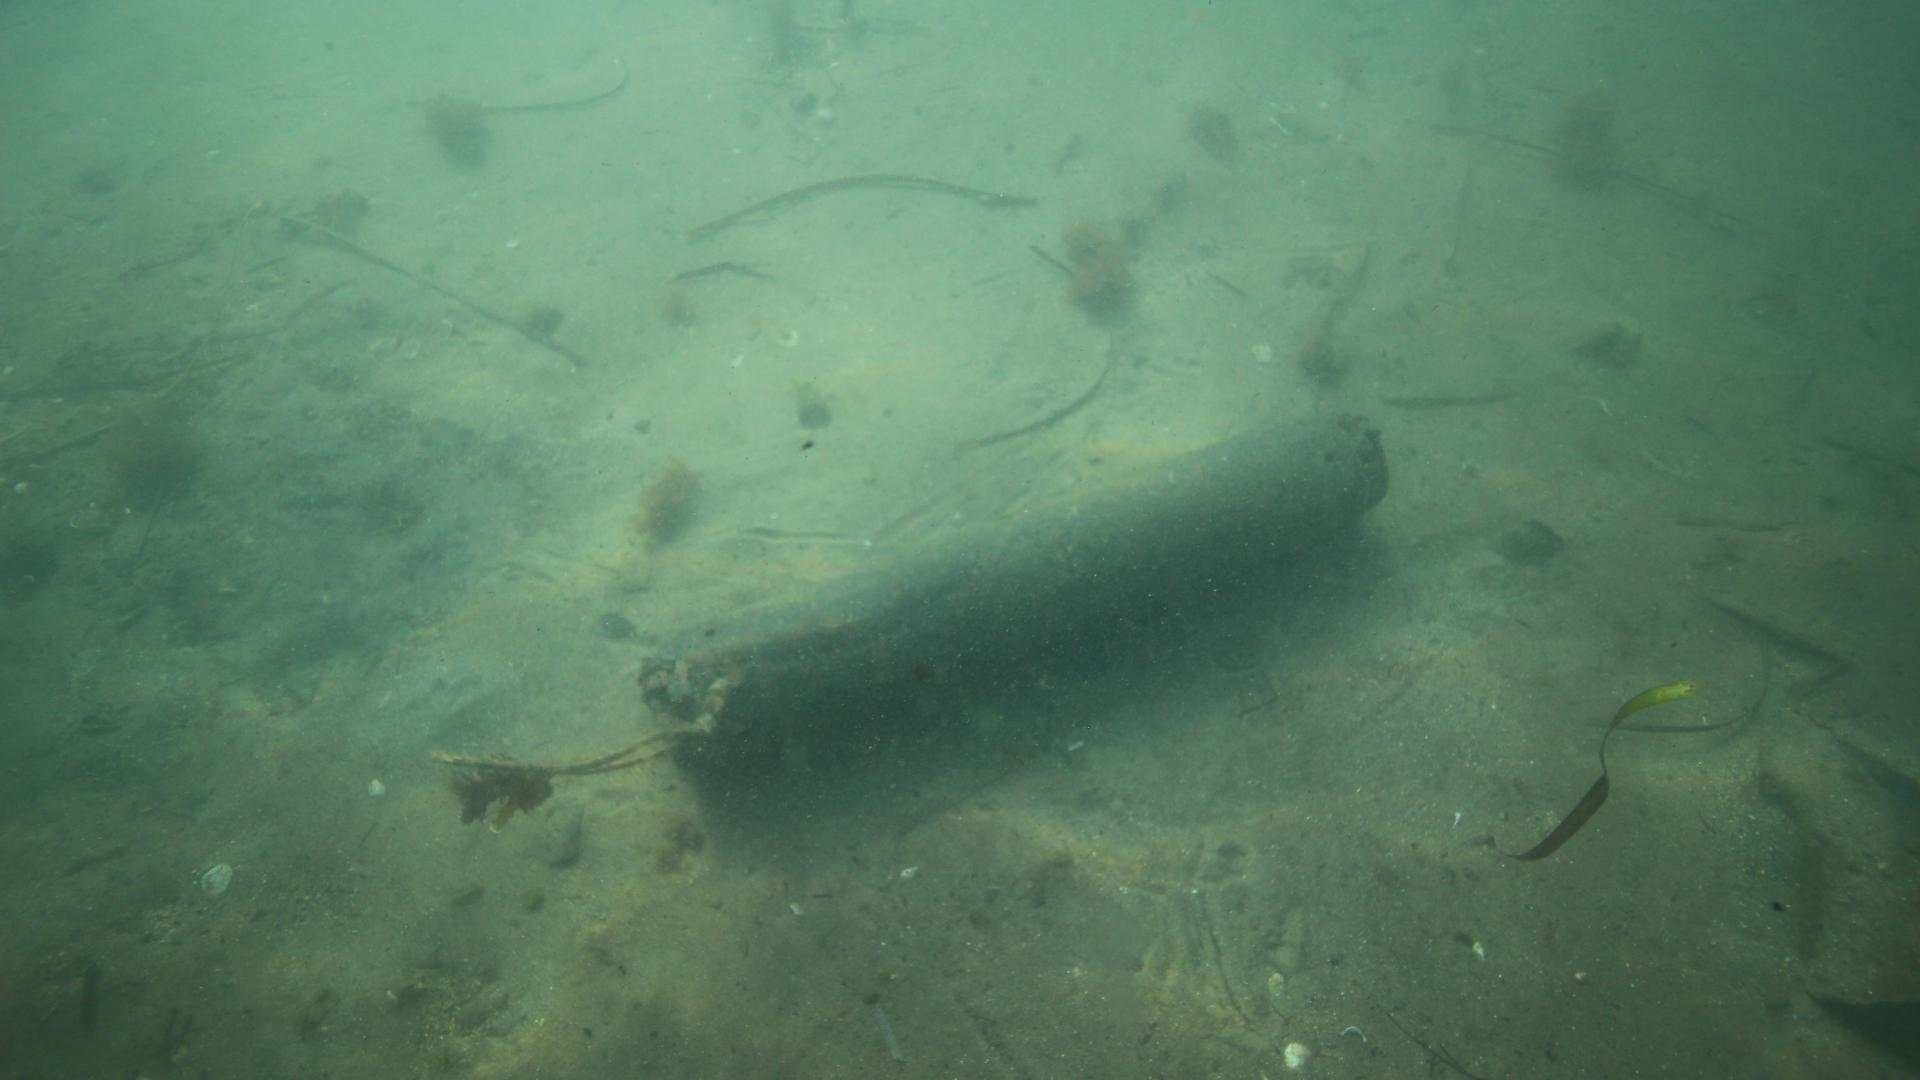bundle of ropes: (430, 708, 674, 785)
eel fish trap: (642, 410, 1389, 771)
